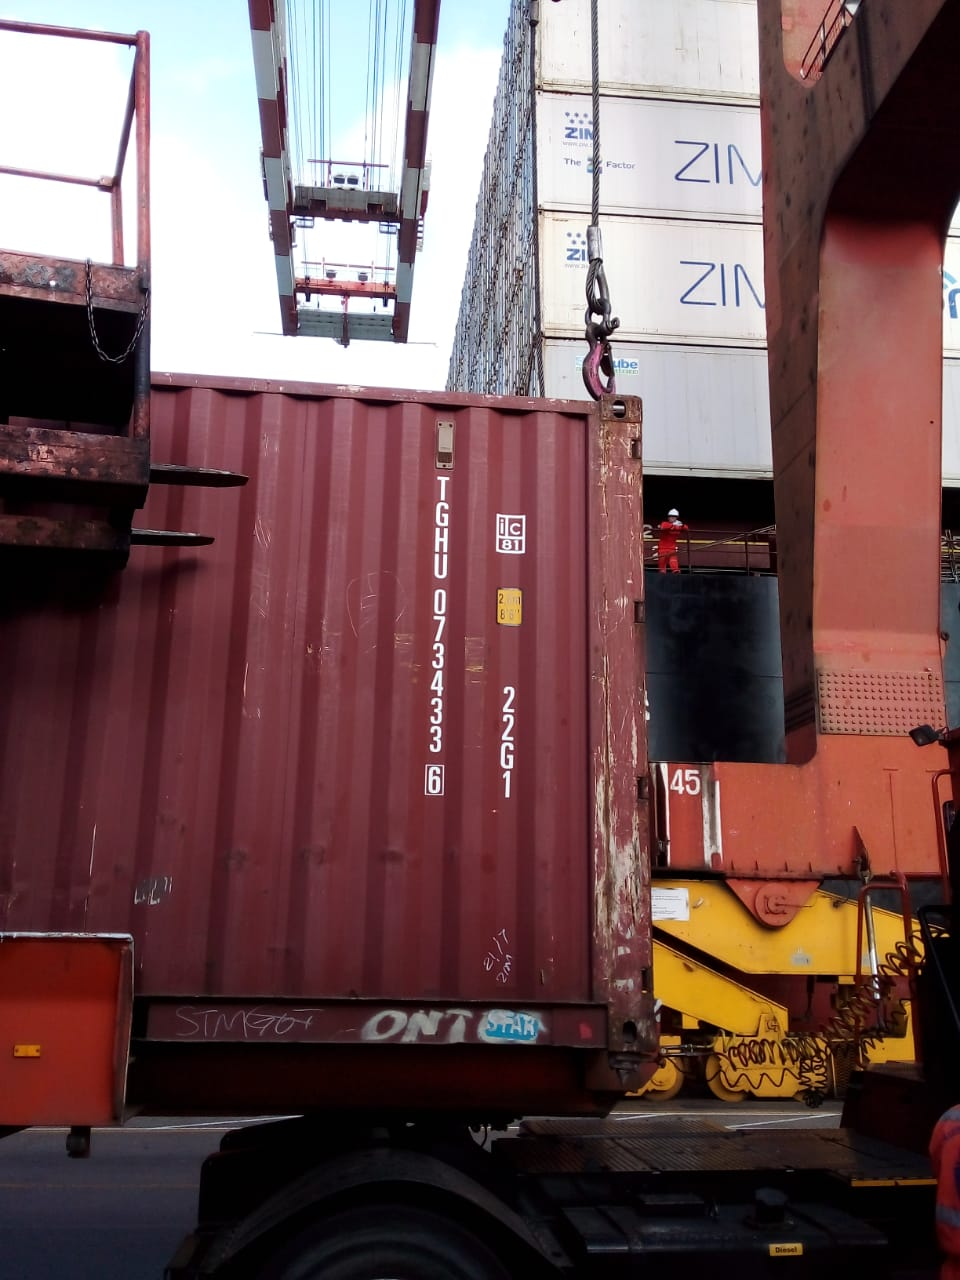bulged: (206, 835, 494, 878)
